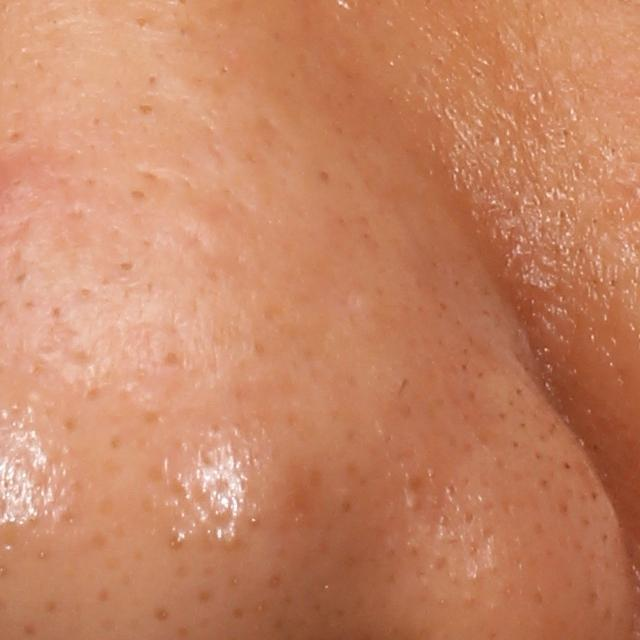comedo: (3, 124, 27, 148), (112, 255, 140, 275), (125, 185, 149, 207)
